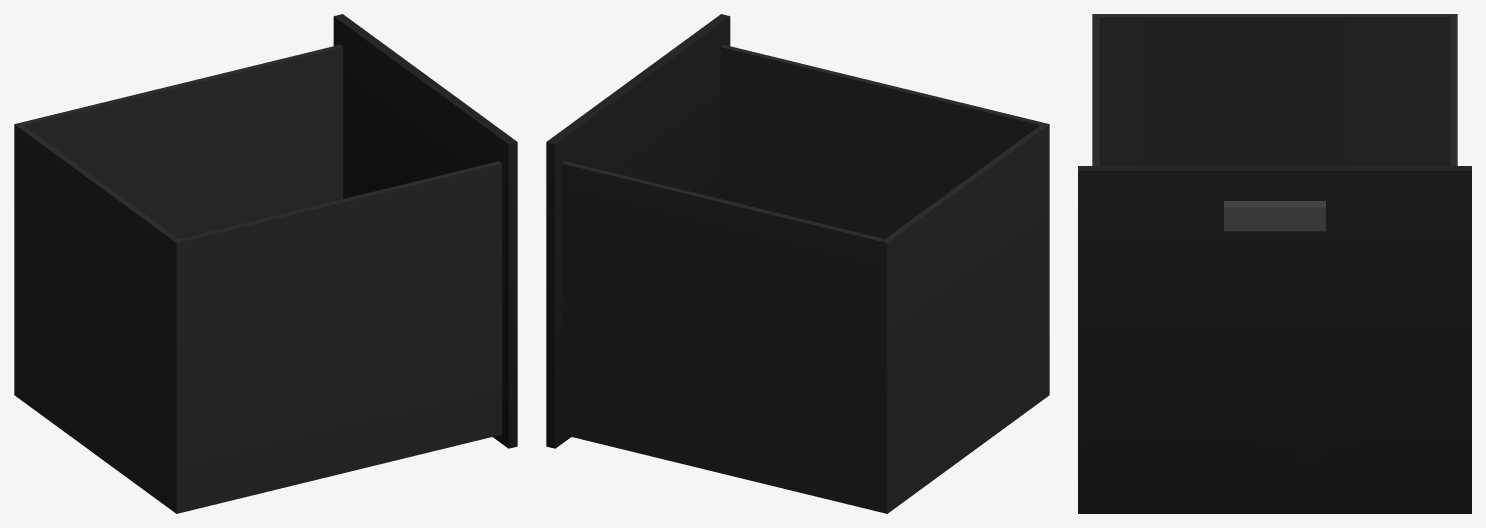
The model's file is Drawer_Large_Corner_Booth_Black.fbx.
3 views of the same model, side by side, from view 1: azimuth 30°, elevation 25°; view 2: azimuth 150°, elevation 25°; view 3: azimuth 270°, elevation 25° (orthographic). The views are drawn at different scales.
Visible parts, largest first — view 1: Drawer_Large_Corner_Booth_Black; view 2: Drawer_Large_Corner_Booth_Black; view 3: Drawer_Large_Corner_Booth_Black.
Boxes of the visible parts, x1,y1,x2,y2 form: Drawer_Large_Corner_Booth_Black: [14, 14, 517, 513]; Drawer_Large_Corner_Booth_Black: [546, 14, 1049, 513]; Drawer_Large_Corner_Booth_Black: [1078, 14, 1471, 513].
Bounding box in the file's own units: 45.97 × 38.22 × 39.78.
